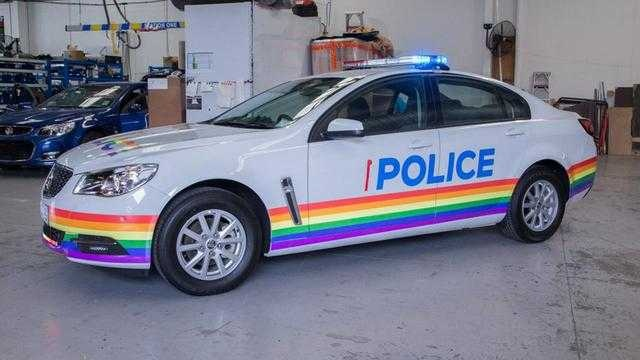Police Car: (32, 53, 606, 305)
